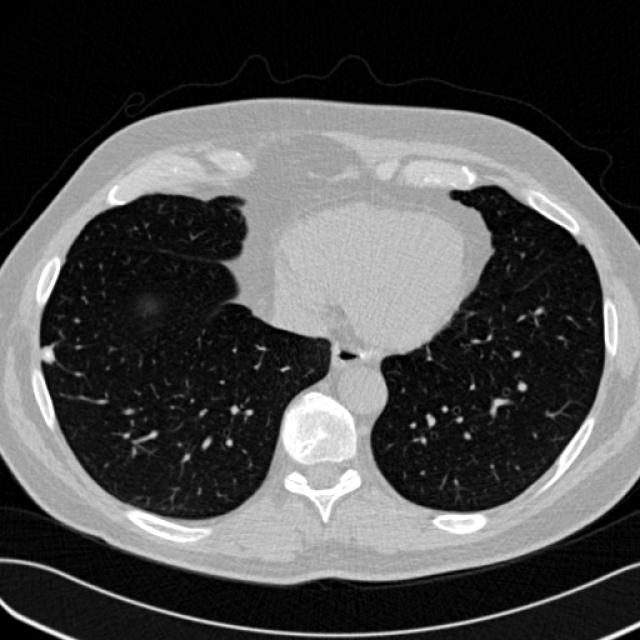nodule: (27, 335, 65, 373)
